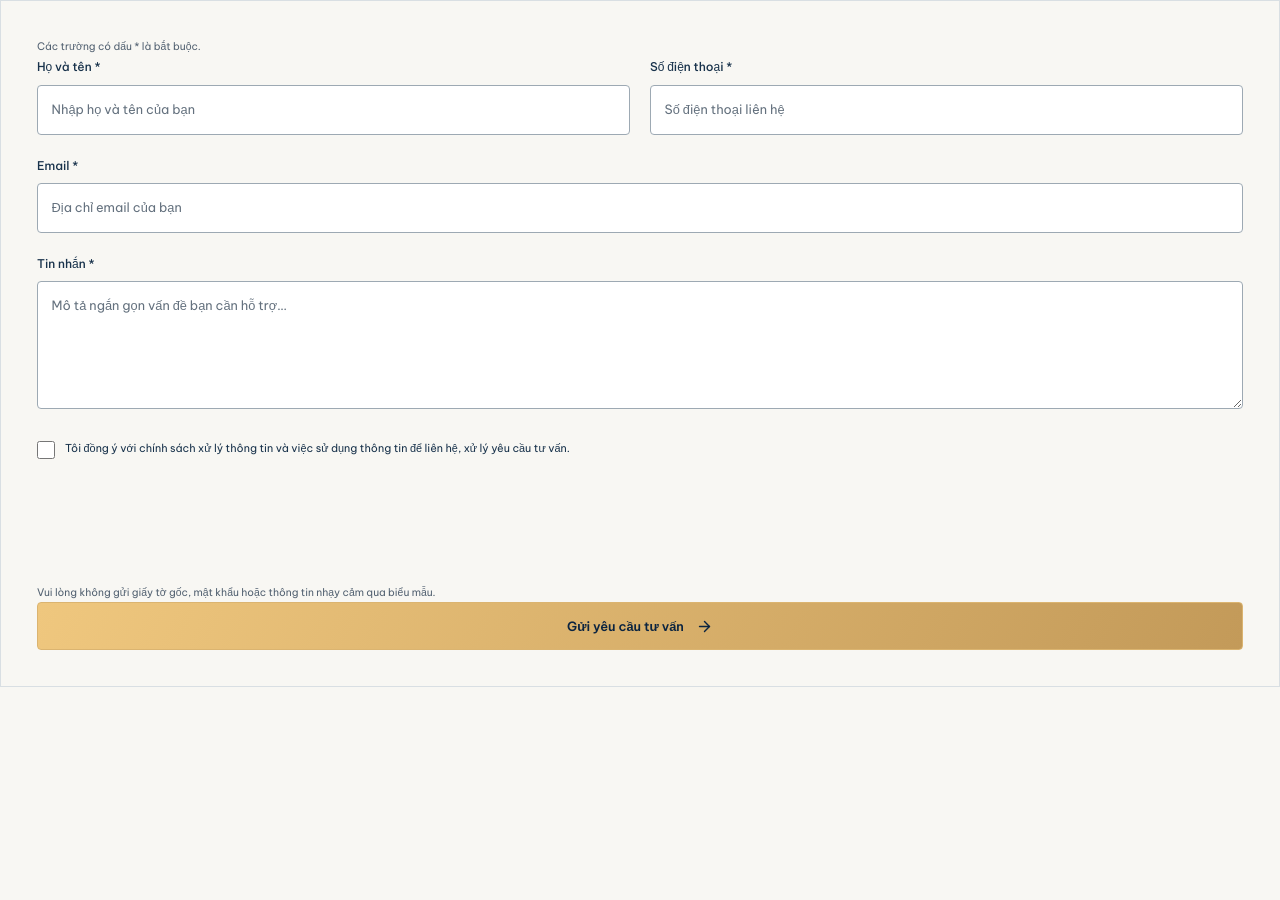
Scenario: inline errors identify invalid inputs and missing consent
Click the button "Gửi yêu cầu tư vấn": (640, 626) [37,602,1243,650]
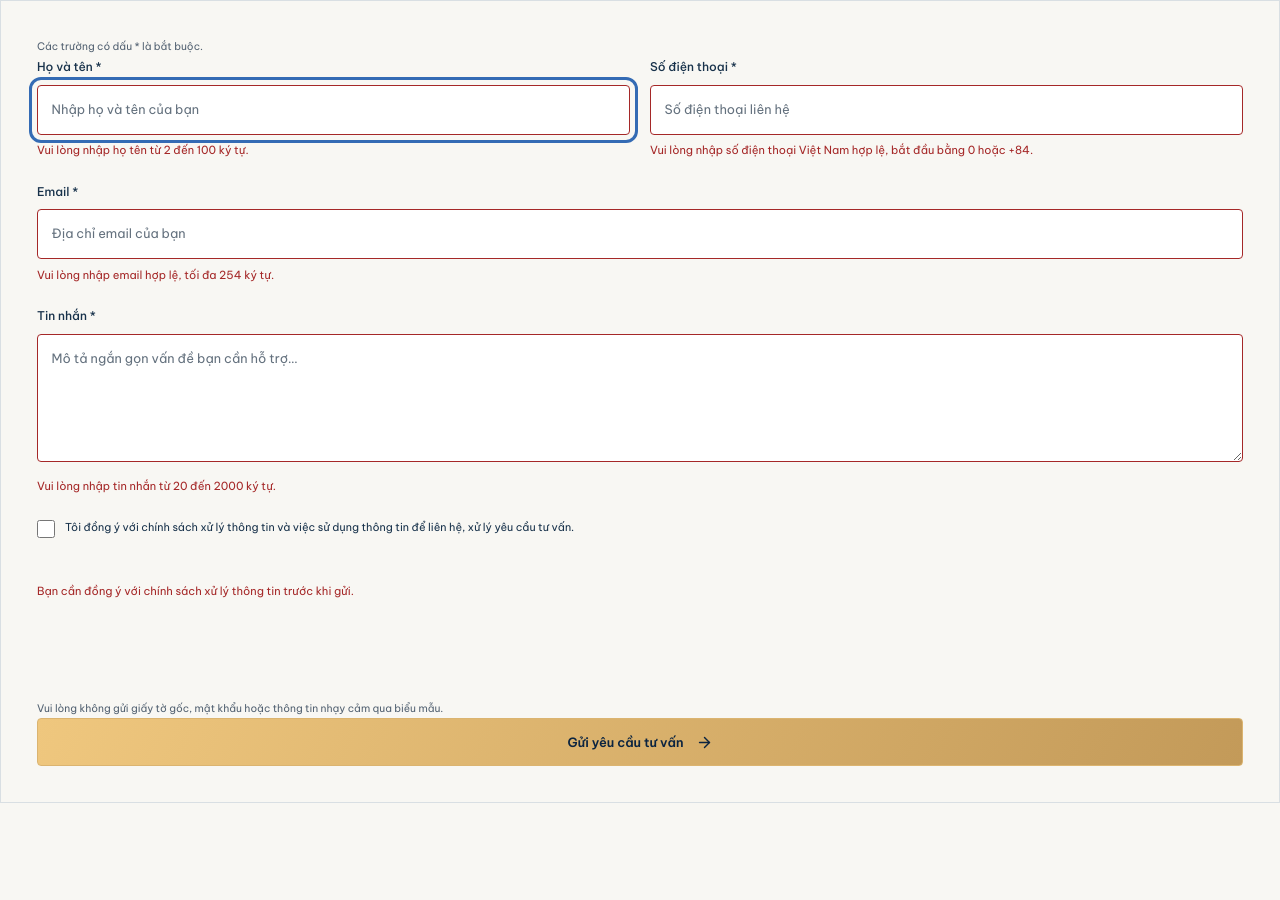
Now the text "Vui lòng nhập họ tên từ 2 đến 100 ký tự." is shown, box [37,143,249,157]
Now the text "Bạn cần đồng ý với chính sách xử lý thông tin trước khi gửi." is shown, box [37,584,354,598]
